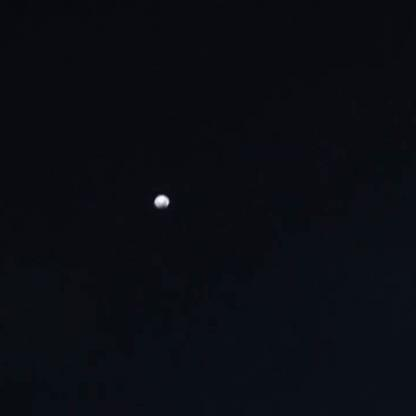ball: (148, 188, 174, 210)
